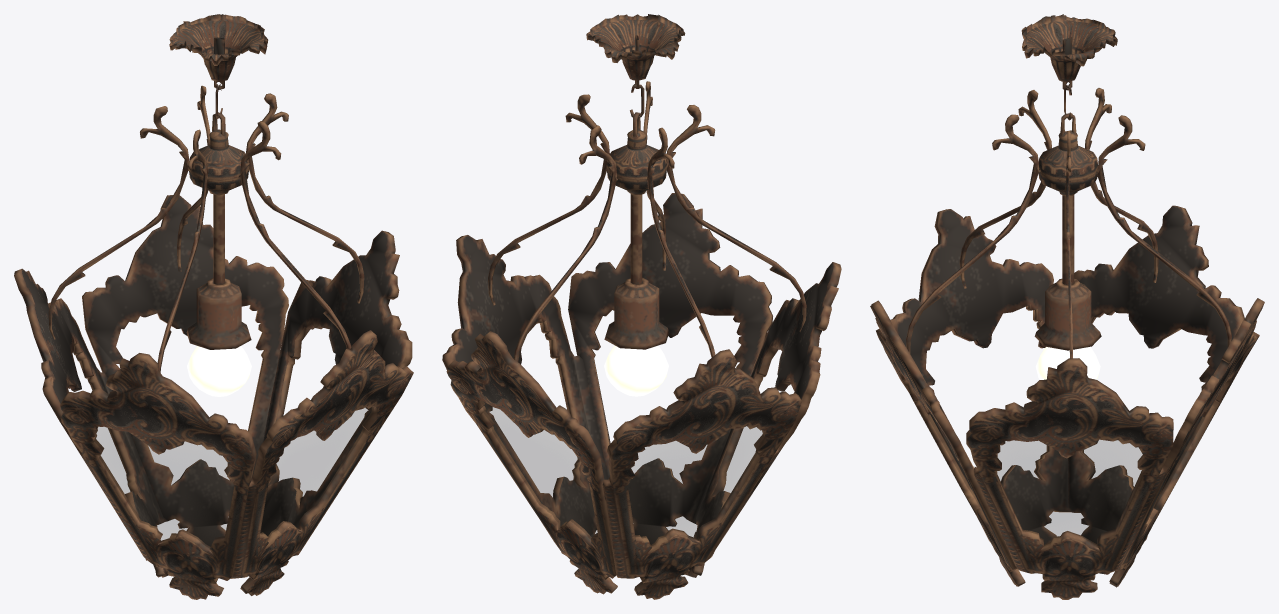
Rendered from lantern_chandelier_01.glb.
The picture shows the model from 3 angles, left to right: view 1: azimuth 30°, elevation 25°; view 2: azimuth 150°, elevation 25°; view 3: azimuth 270°, elevation 25°; orthographic projection.
Parts seen in each view (by area): view 1: lantern_chandelier_01; view 2: lantern_chandelier_01; view 3: lantern_chandelier_01.
Part boxes in pixels (bbox=[...]): lantern_chandelier_01: bbox=[14, 14, 413, 599]; lantern_chandelier_01: bbox=[442, 14, 841, 599]; lantern_chandelier_01: bbox=[870, 14, 1264, 599].
Size of the model in its own units: 0.5792 by 0.8776 by 0.5746.
3 materials, 2 textured.
